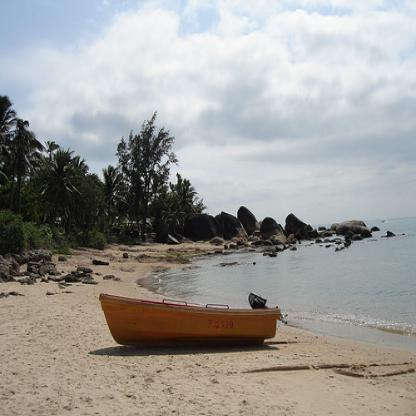boat: (98, 290, 281, 346)
